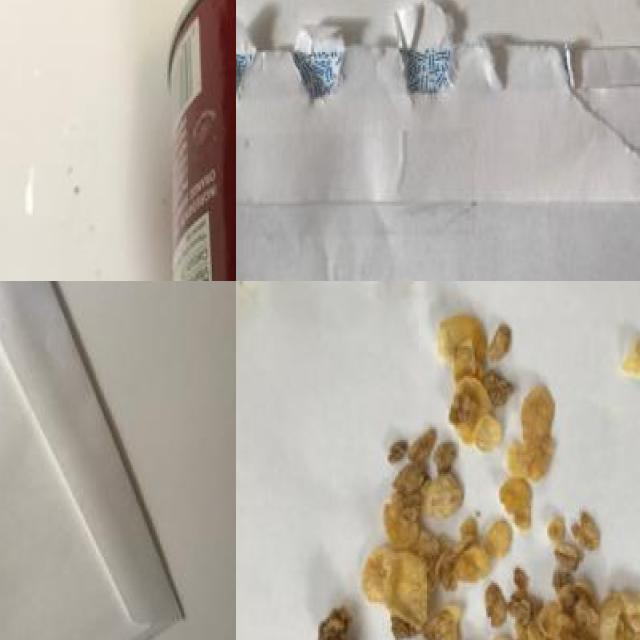compost: (296, 293, 640, 640)
paper: (236, 27, 640, 281), (0, 281, 192, 640)
plastic: (162, 0, 236, 281)
